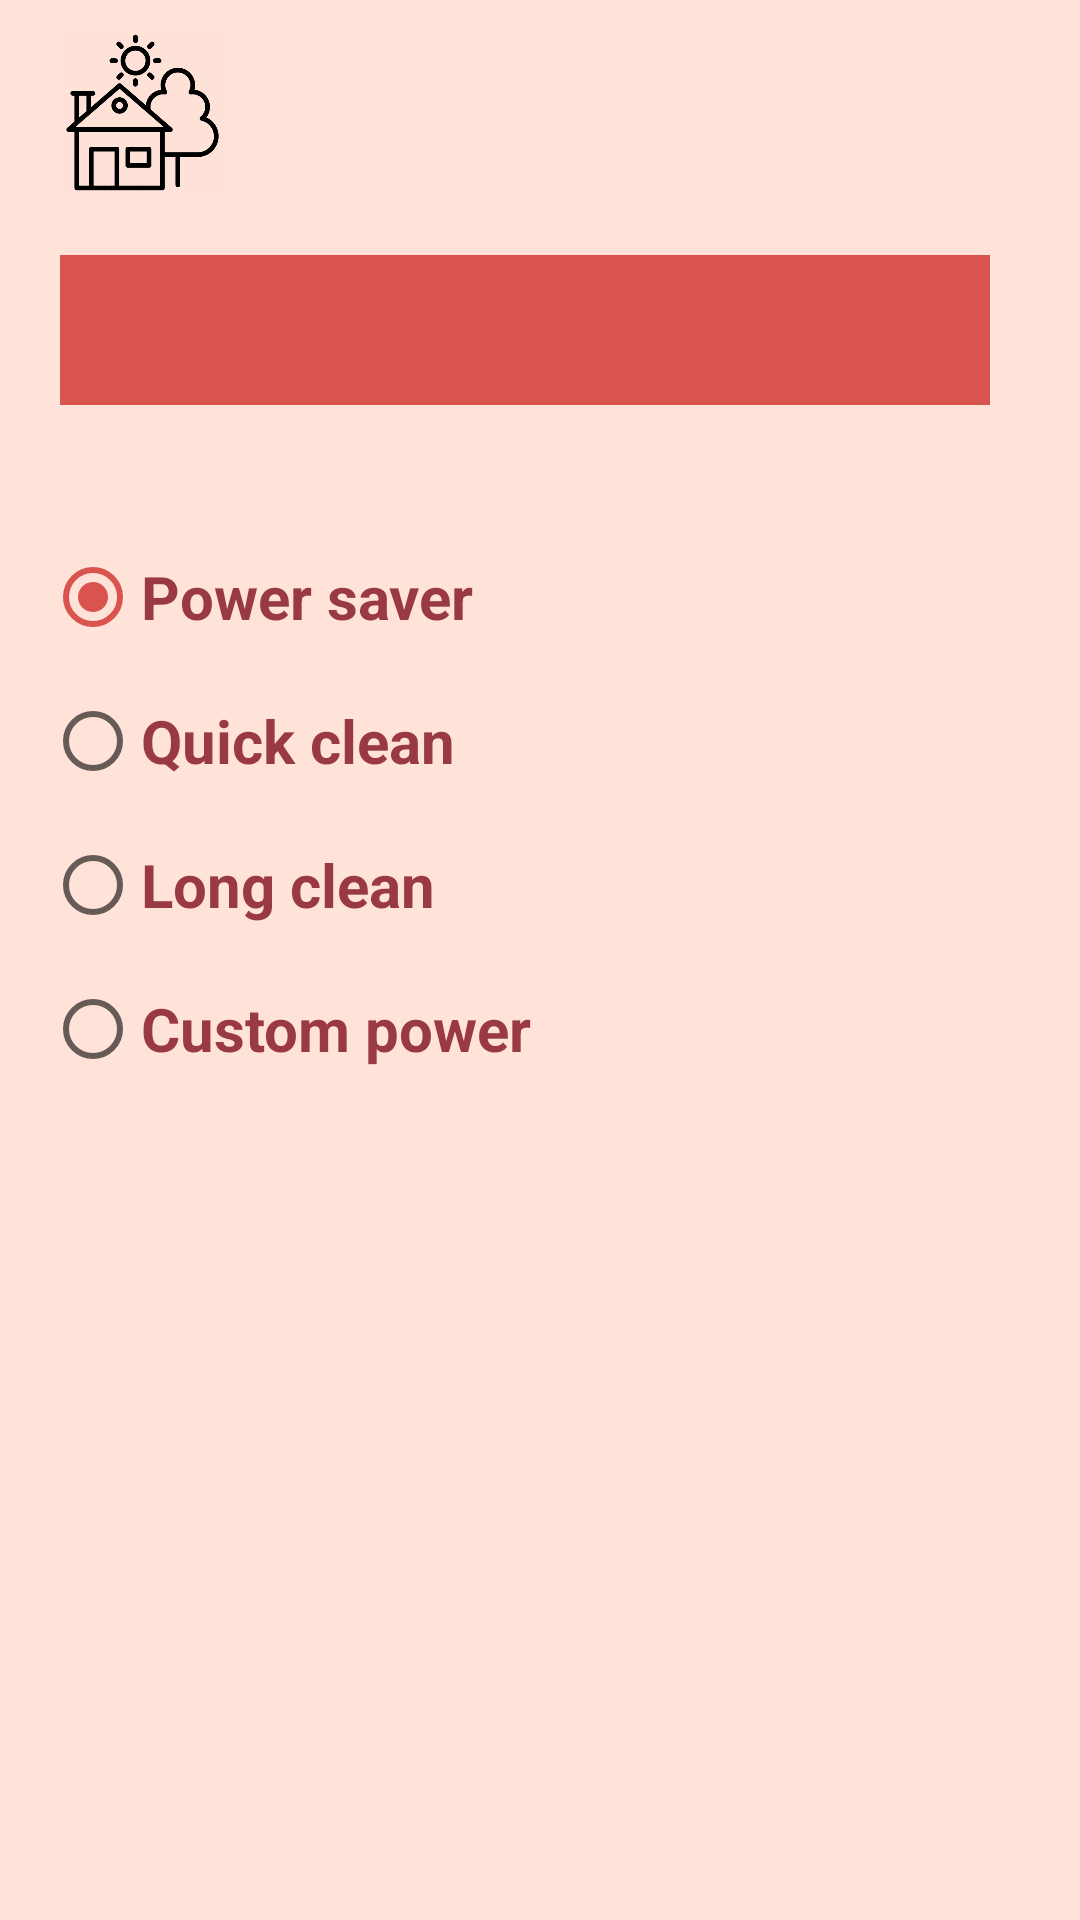

Icons on this 1080 x 1920 Android screen, each with its box as (x1, y1, x2, y2):
house: (66, 34, 219, 191)
